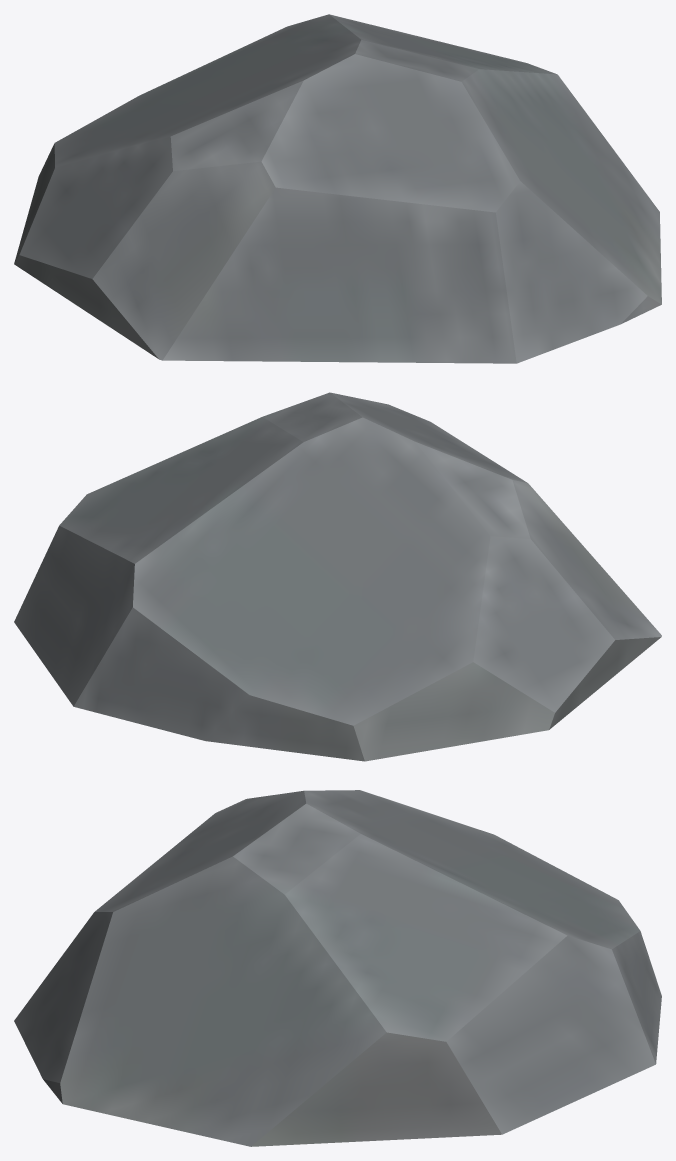
Rendered from rock-4.glb.
3 views of the same model, one above another, from view 1: azimuth 30°, elevation 25°; view 2: azimuth 150°, elevation 25°; view 3: azimuth 270°, elevation 25° (orthographic). The views are drawn at different scales.
Parts seen in each view (by area): view 1: model; view 2: model; view 3: model.
Part boxes in pixels (left/top/right/bottom): model: left=14, top=14, right=661, bottom=363; model: left=14, top=392, right=661, bottom=761; model: left=14, top=790, right=661, bottom=1146.
Size of the model in its own units: 0.3057 by 0.1116 by 0.3132.
Materials: 1 (1 with a texture image).
